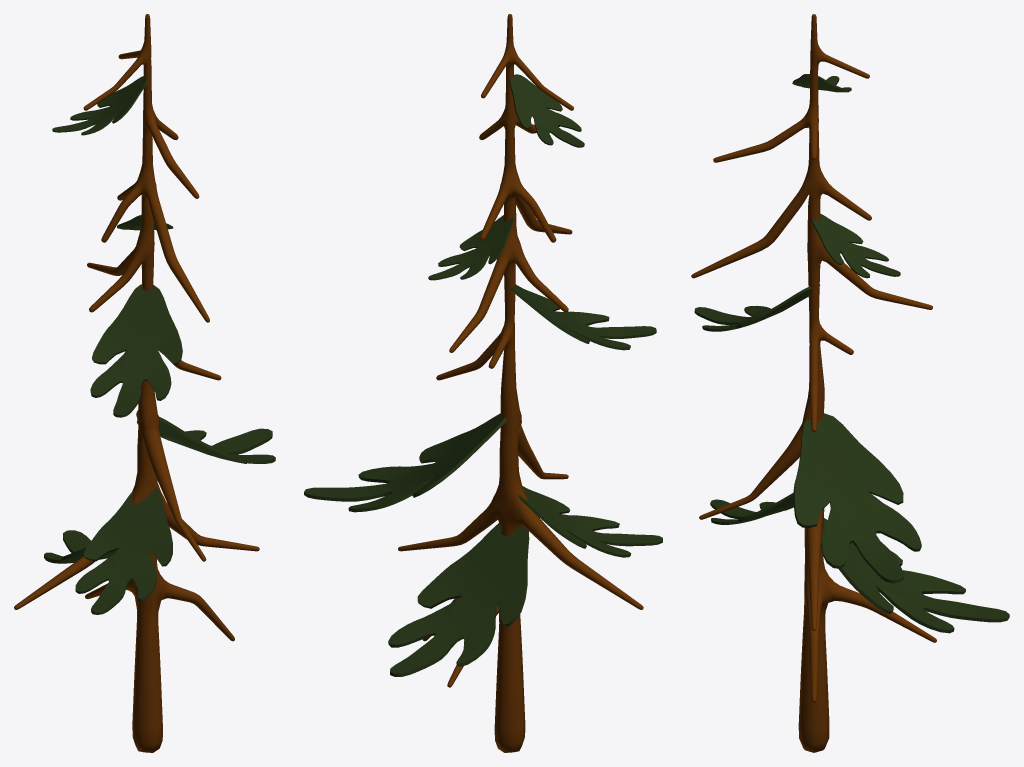
Rendered from tree2 1.fbx.
The picture shows the model from 3 angles, left to right: view 1: azimuth 30°, elevation 25°; view 2: azimuth 150°, elevation 25°; view 3: azimuth 270°, elevation 25°; orthographic projection.
Visible parts, largest first — view 1: tree2; view 2: tree2; view 3: tree2.
Boxes of the visible parts, <box> form: tree2: <box>14,14,275,752</box>; tree2: <box>304,14,662,752</box>; tree2: <box>691,14,1009,752</box>.
Size of the model in its own units: 74.04 by 175 by 68.58.
